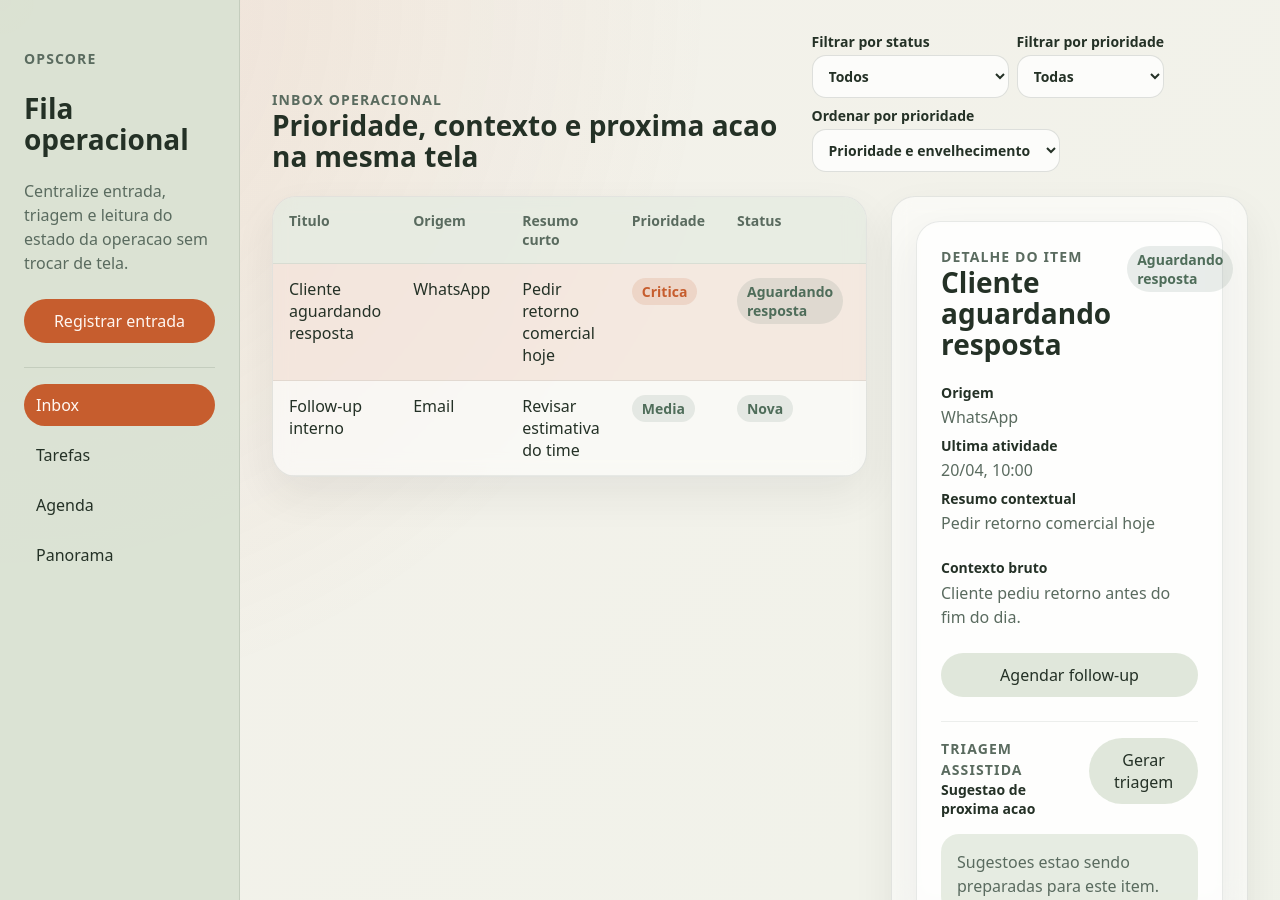
Test: workspace shell › renders the dense inbox table and filters rows by status
Expected: the text "Cliente aguardando resposta" is shown, x1=273 y1=264 x2=397 y2=380
Expected: the text "Follow-up interno" is shown, x1=273 y1=380 x2=397 y2=476
Select "Aguardando resposta" in the dropdown labelled "Filtrar por status" at (910, 76), box x1=812 y1=55 x2=1008 y2=98
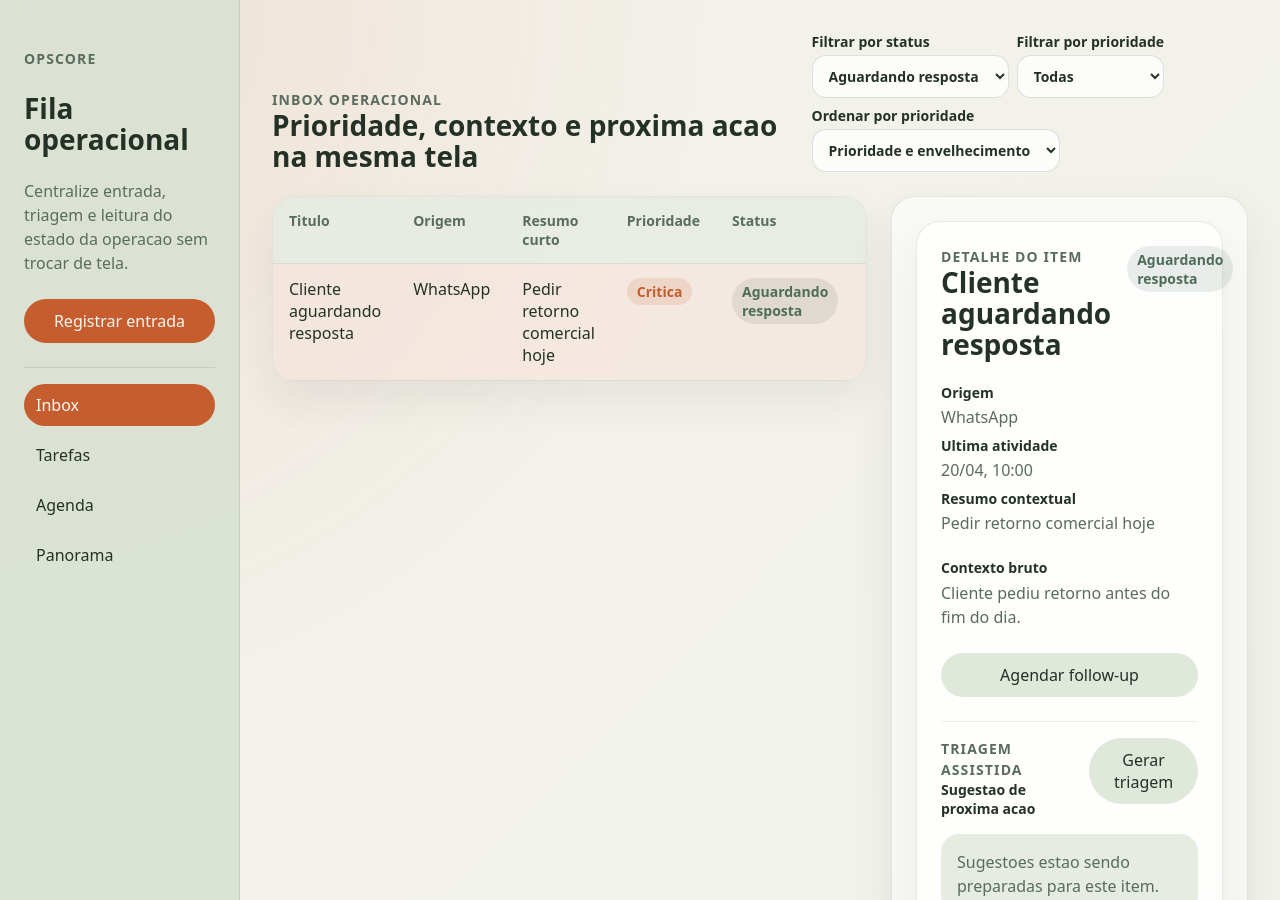
Expected: the text "Cliente aguardando resposta" is shown, x1=273 y1=264 x2=397 y2=380
Result: the text "Follow-up interno" is gone
